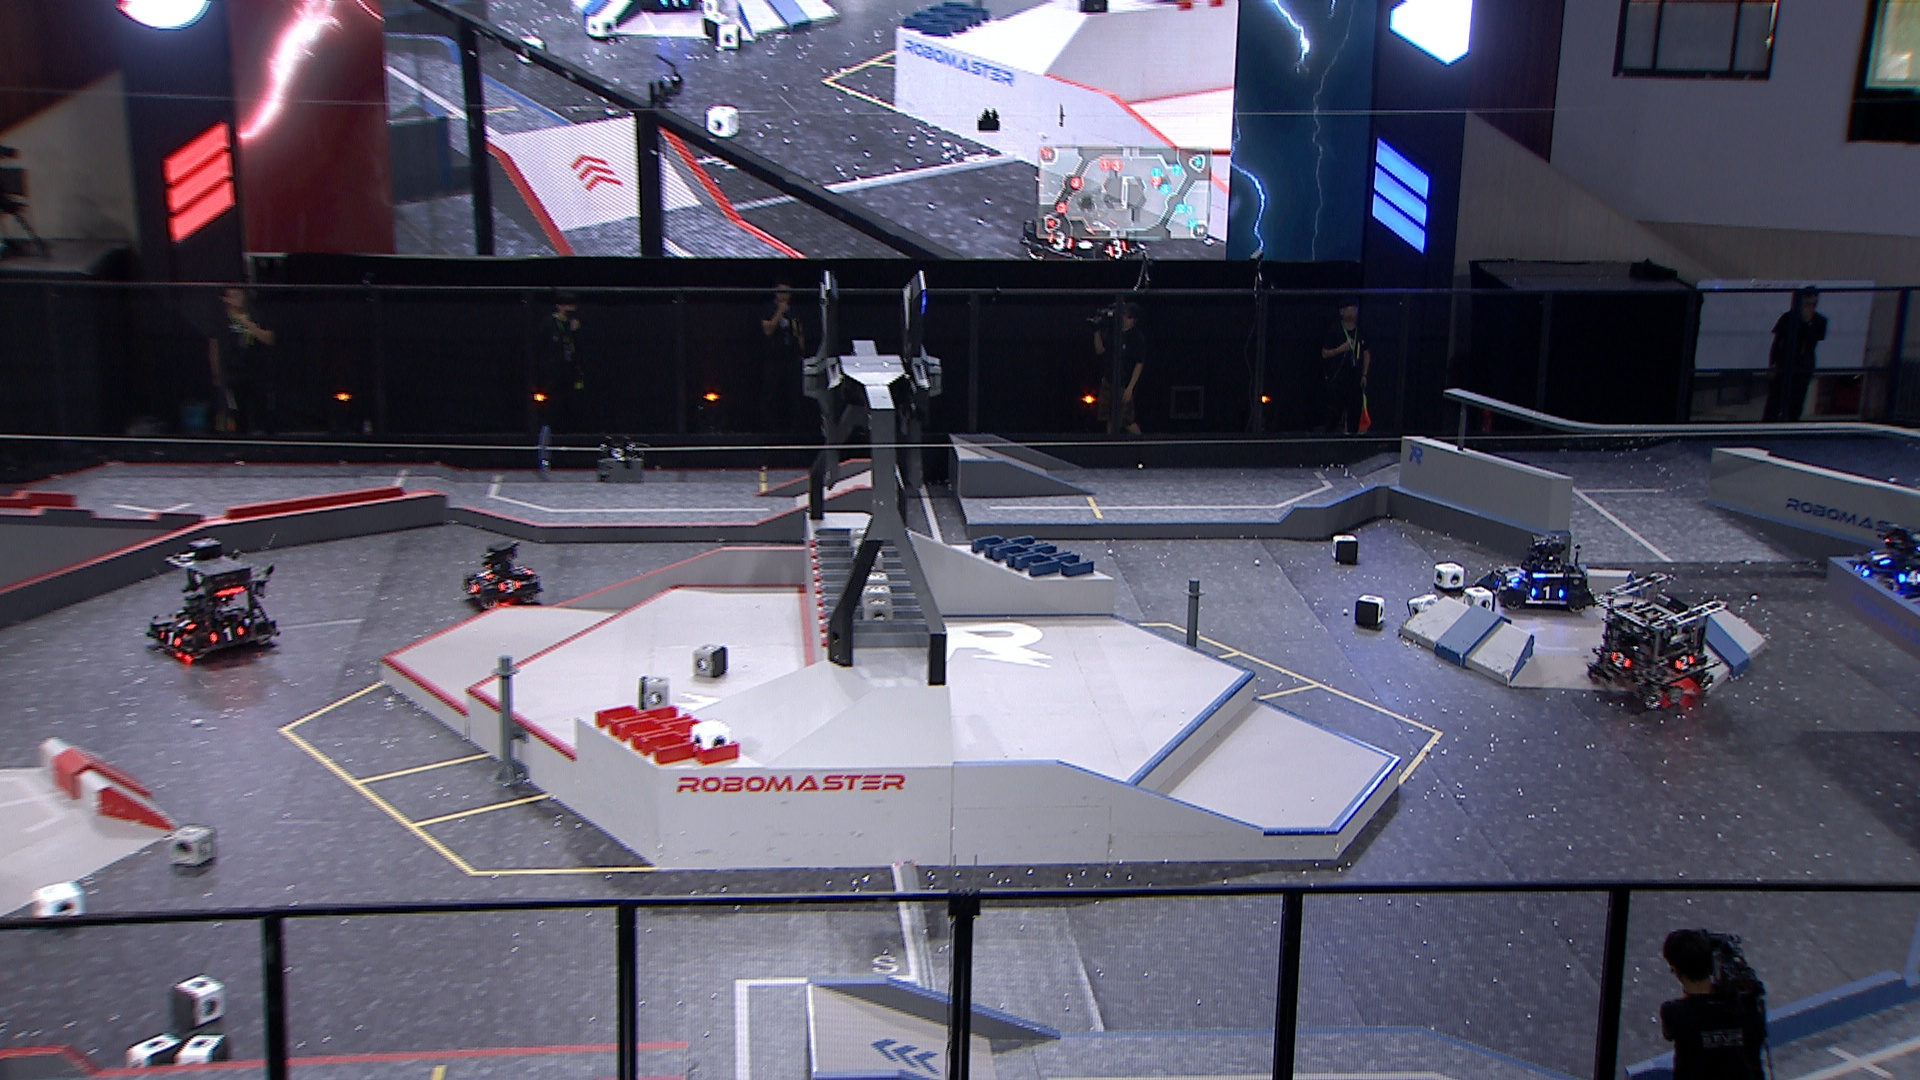armor: (204, 624, 245, 645), (1528, 585, 1565, 603), (156, 629, 183, 647), (171, 615, 196, 633), (496, 578, 522, 595), (1899, 568, 1920, 589), (1609, 651, 1633, 670), (1673, 654, 1697, 671), (1869, 549, 1890, 566), (1503, 568, 1524, 584), (463, 579, 480, 597), (1854, 560, 1870, 579), (475, 566, 495, 580)
car: (1585, 572, 1727, 712), (145, 547, 280, 666), (1489, 527, 1596, 613), (462, 538, 542, 611), (1851, 522, 1920, 597)
ignore: (1015, 189, 1149, 264)
